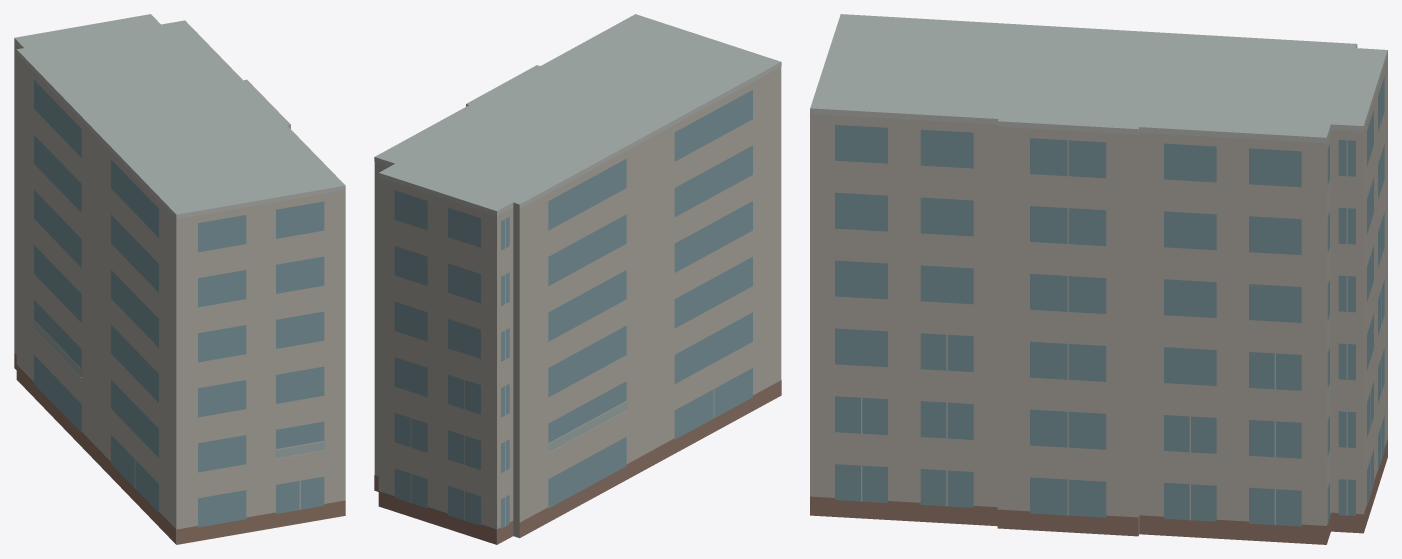
The model's file is survey-upis-32669962.glb.
3 renders of one model, left to right at view 1: azimuth 30°, elevation 25°; view 2: azimuth 150°, elevation 25°; view 3: azimuth 270°, elevation 25°, orthographic. The views are drawn at different scales.
Parts seen in each view (by area): view 1: survey-upis-32669962.tmp; view 2: survey-upis-32669962.tmp; view 3: survey-upis-32669962.tmp.
Boxes of the visible parts, bbox=[...] form: survey-upis-32669962.tmp: bbox=[14, 14, 345, 544]; survey-upis-32669962.tmp: bbox=[374, 14, 781, 544]; survey-upis-32669962.tmp: bbox=[810, 14, 1387, 544].
Size of the model in its own units: 11.68 by 17.9 by 23.03.
